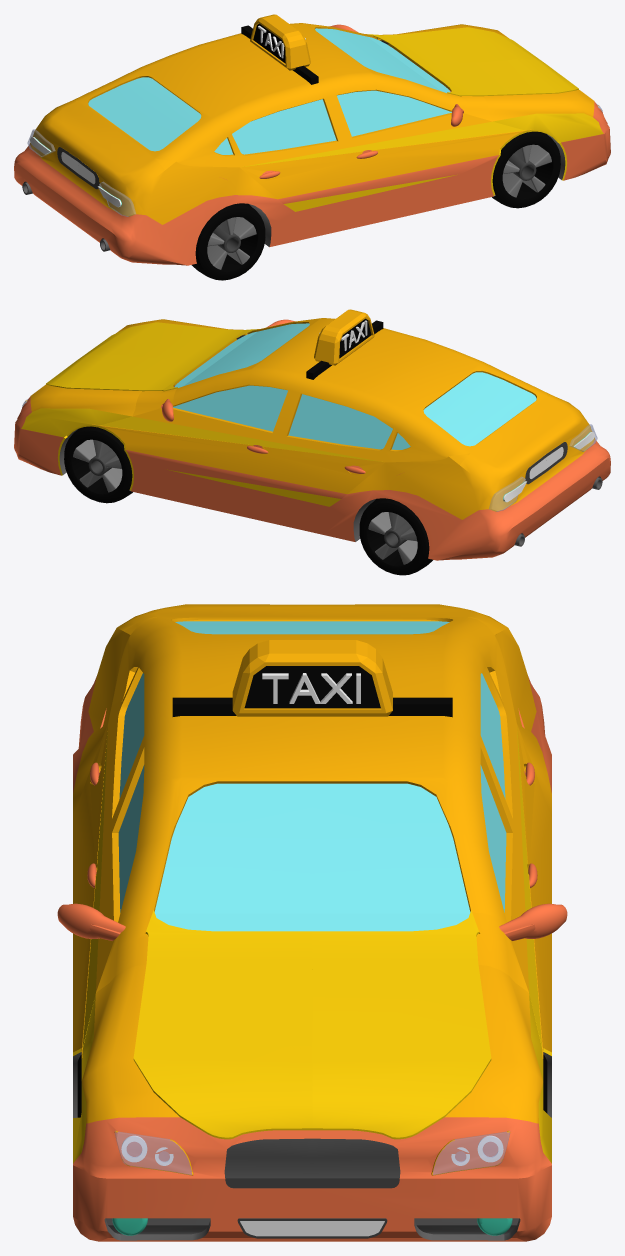
File: taxi.fbx
3 renders of one model, top to bottom at view 1: azimuth 30°, elevation 25°; view 2: azimuth 150°, elevation 25°; view 3: azimuth 270°, elevation 25°, orthographic. The views are drawn at different scales.
Visible parts, largest first — view 1: lv1_car_taxi, wheelback_L_taxi_lv1, wheelfront_L_taxi_lv1; view 2: lv1_car_taxi, wheelback_R_taxi_lv1, wheelfront_R_taxi_lv1; view 3: lv1_car_taxi.
Part boxes in pixels (bbox=[...]): lv1_car_taxi: bbox=[14, 14, 610, 265]; wheelback_L_taxi_lv1: bbox=[191, 203, 265, 280]; wheelfront_L_taxi_lv1: bbox=[492, 131, 560, 208]; lv1_car_taxi: bbox=[14, 309, 610, 560]; wheelback_R_taxi_lv1: bbox=[359, 498, 432, 575]; wheelfront_R_taxi_lv1: bbox=[64, 426, 132, 503]; lv1_car_taxi: bbox=[57, 604, 567, 1241].
Bounding box in the file's own units: 690 × 251 × 308.
